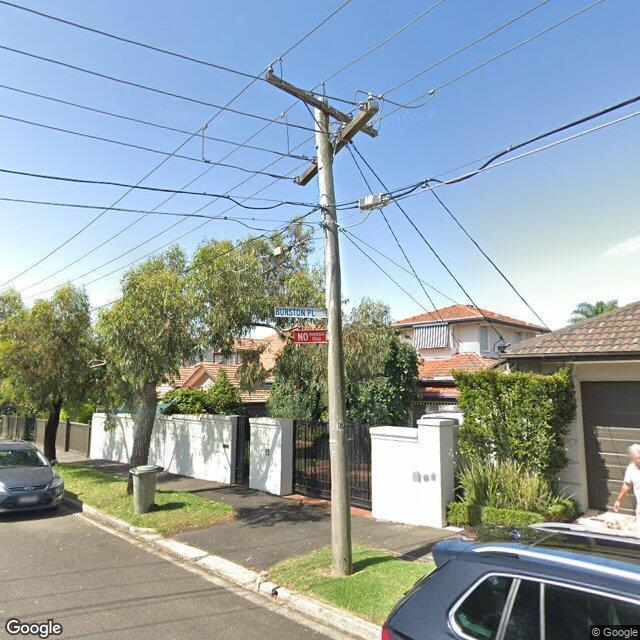crossarm: (294, 94, 386, 186), (265, 63, 379, 137)
timber-pole: (314, 95, 352, 577)
